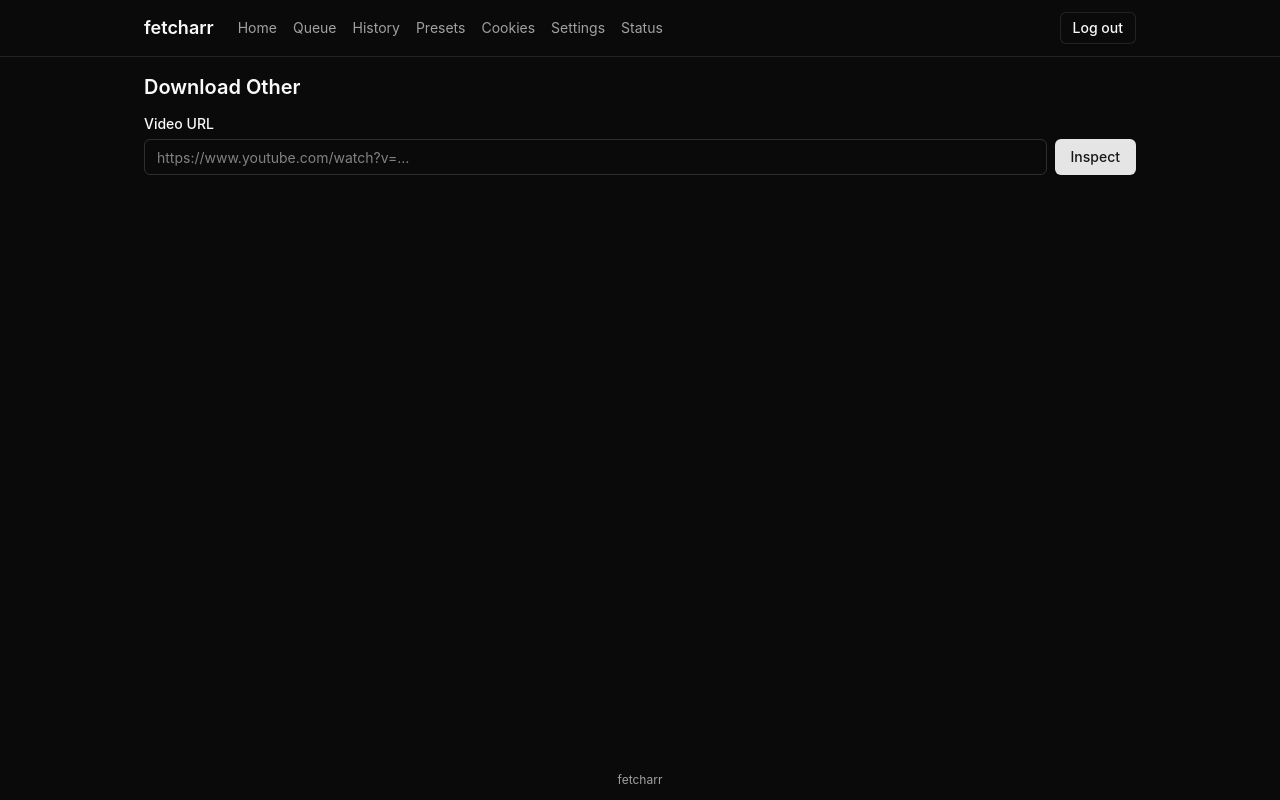
Other wizard › shows the needs-cookies state
Type "https://www.youtube.com/watch?v=aqz-KE-bpKQ" into the field labelled "Video URL" at (595, 157), box [144,139,1046,175]
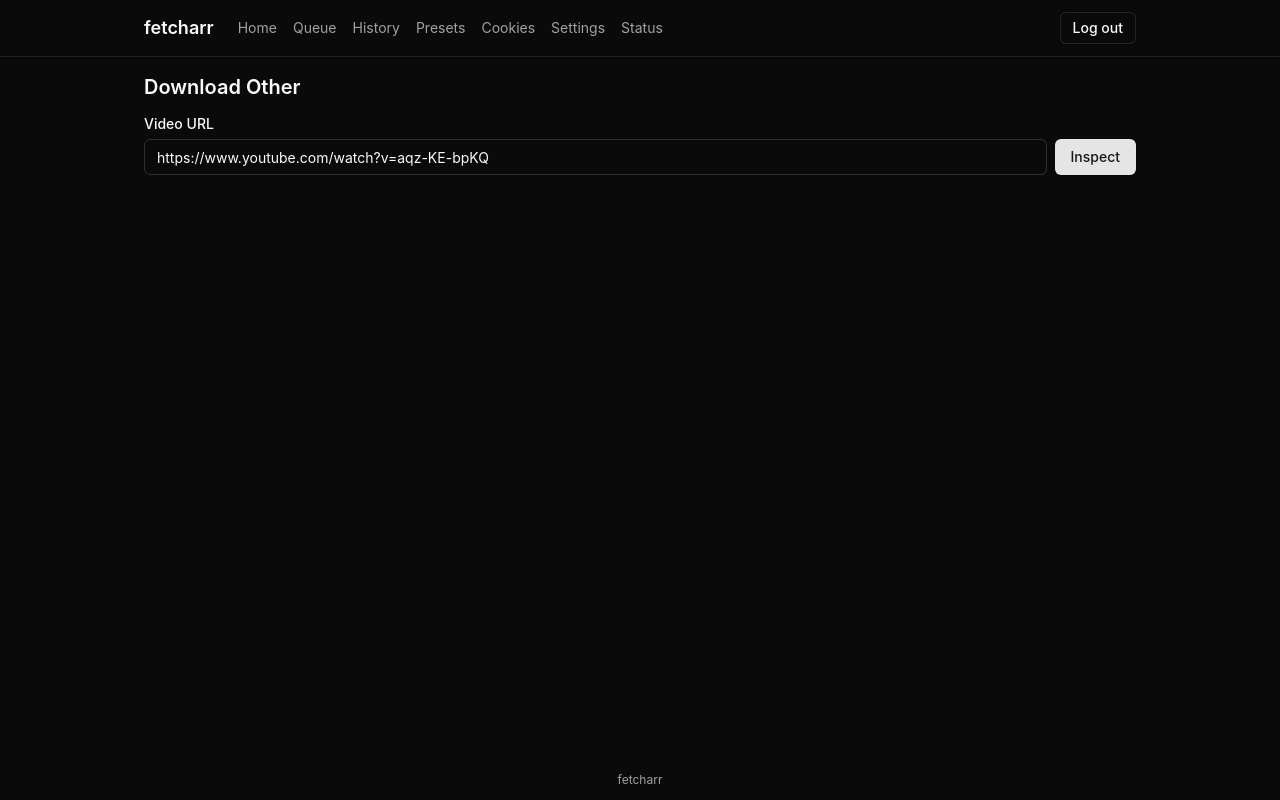
Click the button "Inspect" at (1095, 157), box [1054,139,1136,175]
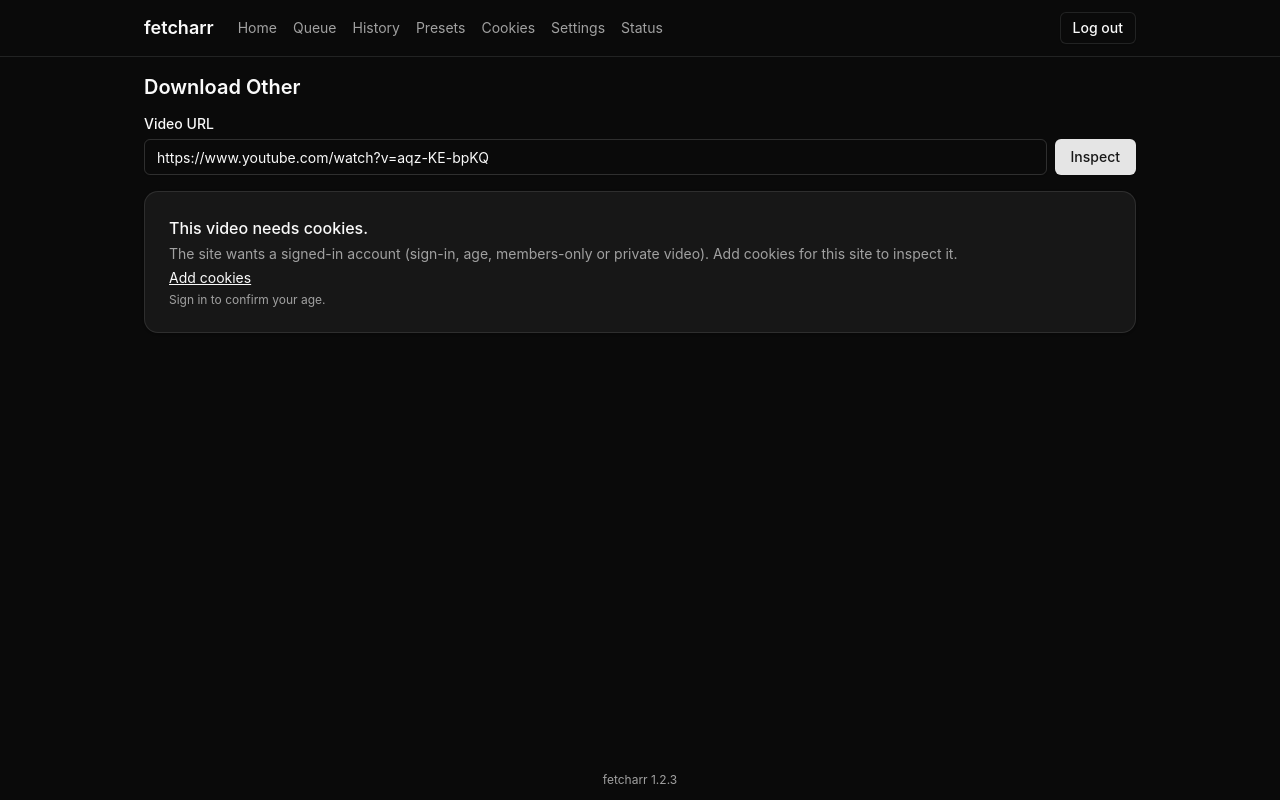
Now the message shows "This video needs cookies.", box [169,218,368,238]
Now the message shows "Sign in to confirm your age.", box [169,292,326,307]
